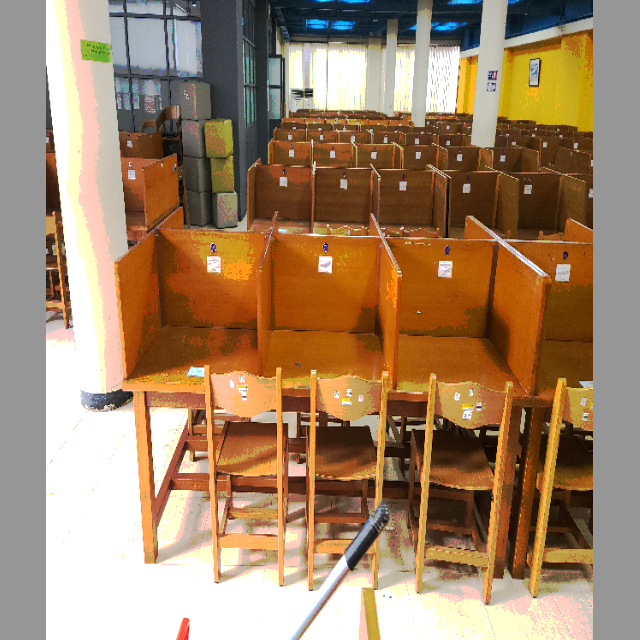empty: (400, 218, 540, 466), (119, 218, 258, 444), (265, 221, 395, 456)
